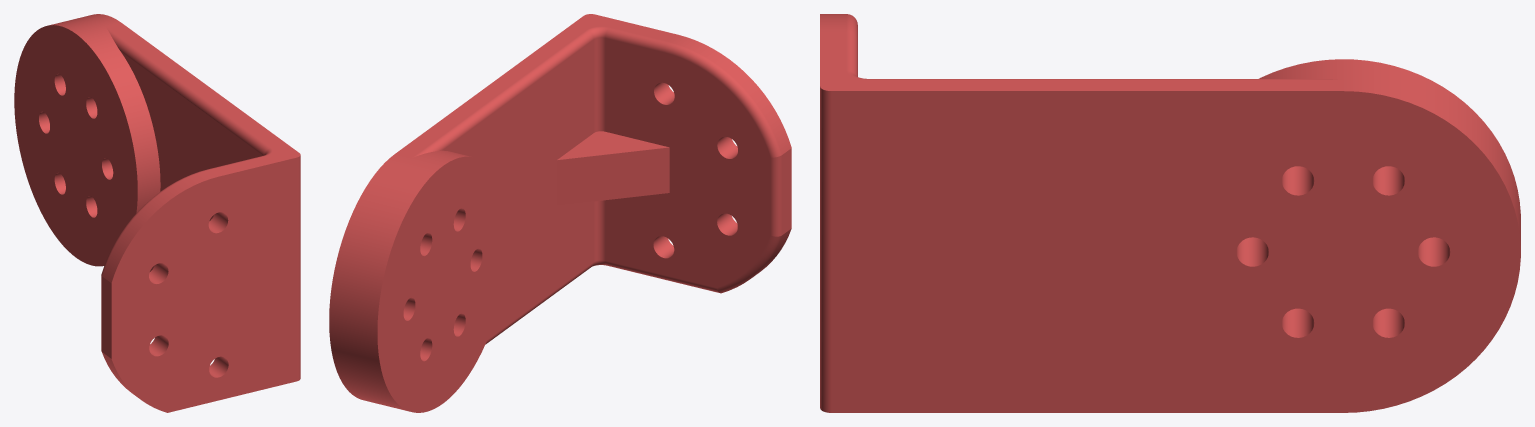
The model's file is arm_left.dae.
3 renders of one model, left to right at view 1: azimuth 30°, elevation 25°; view 2: azimuth 150°, elevation 25°; view 3: azimuth 270°, elevation 25°, orthographic. The views are drawn at different scales.
Parts seen in each view (by area): view 1: arm_left; view 2: arm_left; view 3: arm_left.
Part boxes in pixels (bbox=[...]): arm_left: bbox=[14, 14, 300, 412]; arm_left: bbox=[329, 14, 791, 412]; arm_left: bbox=[820, 14, 1520, 412].
Bounding box in the file's own units: 0.0422 × 0.0927 × 0.047.
